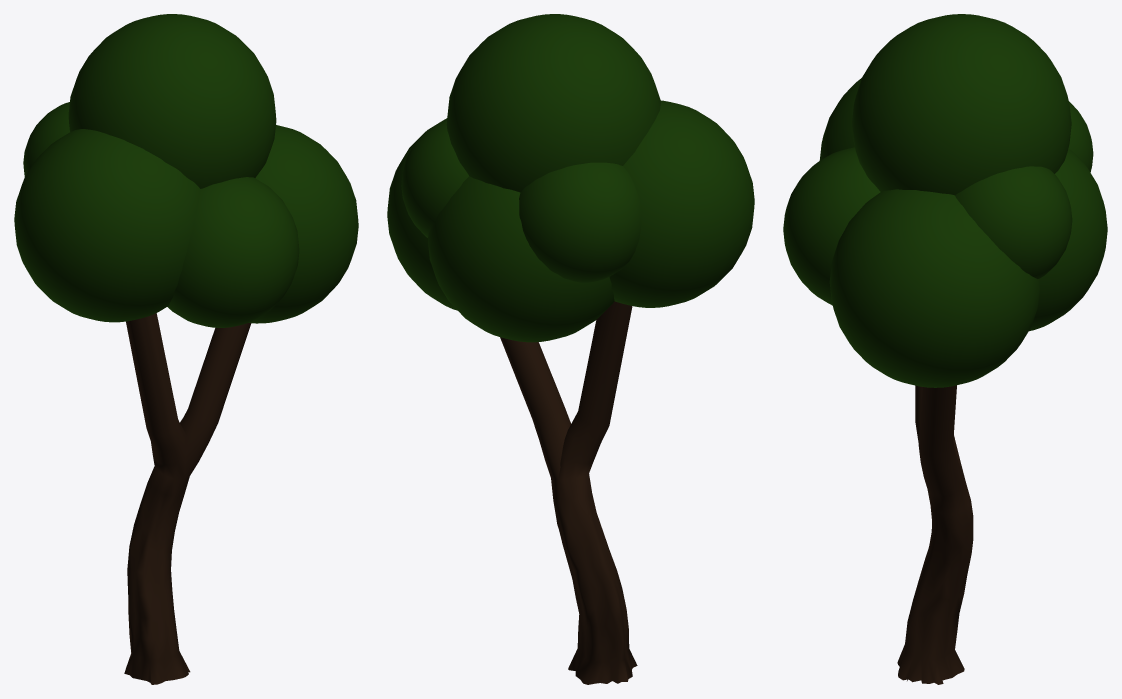
The model's file is tree_a.dae.
The picture shows the model from 3 angles, left to right: view 1: azimuth 30°, elevation 25°; view 2: azimuth 150°, elevation 25°; view 3: azimuth 270°, elevation 25°; orthographic projection. The views are drawn at different scales.
Parts seen in each view (by area): view 1: tree.001; view 2: tree.001; view 3: tree.001.
Part boxes in pixels (bbox=[...]): tree.001: bbox=[14, 14, 358, 684]; tree.001: bbox=[387, 14, 754, 684]; tree.001: bbox=[783, 14, 1107, 684].
Size of the model in its own units: 8.98 by 7.41 by 16.68.
